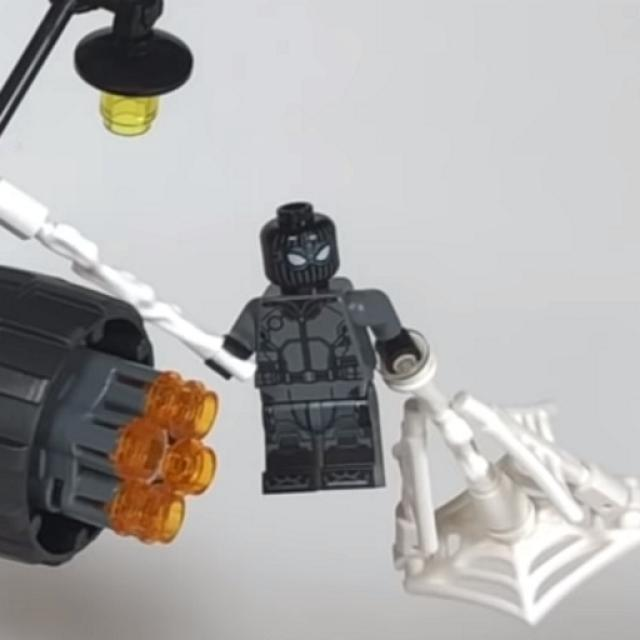Lego-Minifigures: (191, 173, 432, 523)
